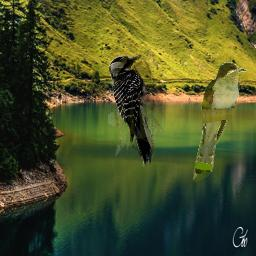Cuckoo: (193, 62, 247, 182)
Woodpecker: (108, 54, 164, 168)
